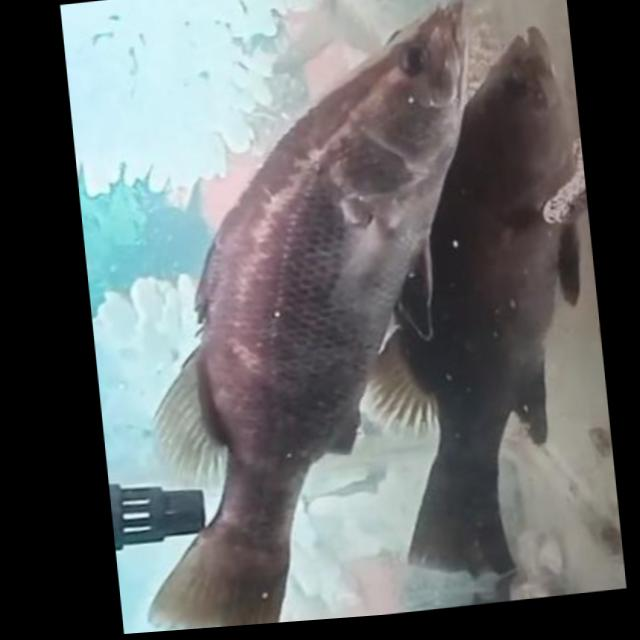Seabass: (83, 0, 523, 634), (330, 22, 611, 592)
